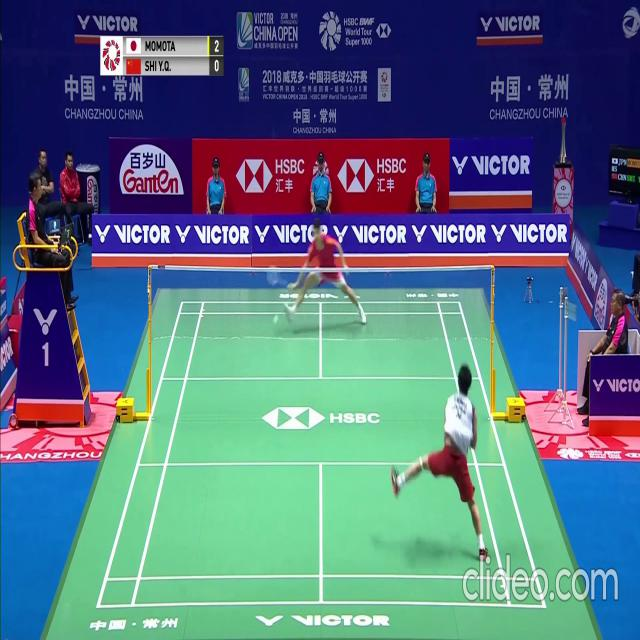Shuttlecock: (272, 314, 277, 322)
